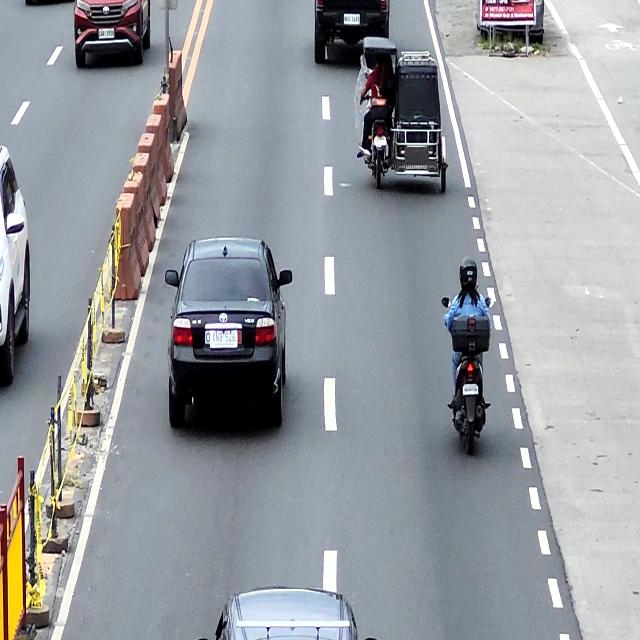Car: (165, 238, 294, 432), (0, 144, 30, 382), (74, 0, 151, 70), (315, 0, 391, 66)
License-Plate: (210, 328, 238, 348), (462, 383, 479, 396), (344, 13, 361, 25), (373, 134, 387, 148), (98, 30, 116, 40)
Motorcycle: (442, 295, 491, 454)
Tricycle: (360, 36, 449, 194)
